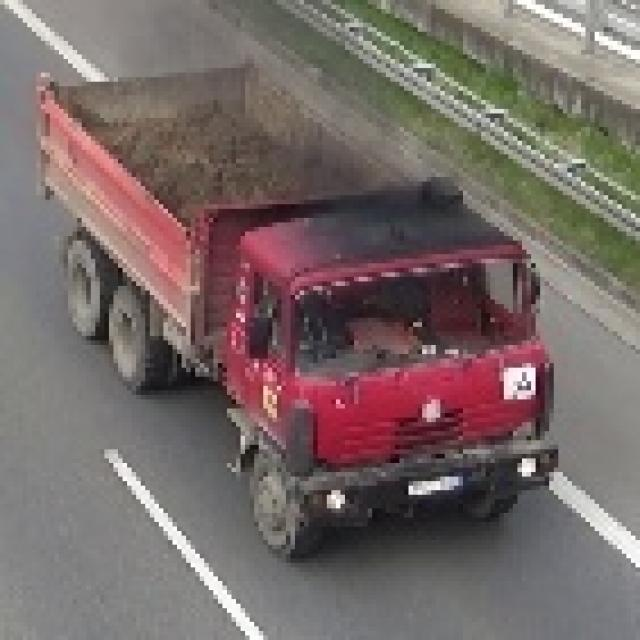truck: (27, 54, 554, 558)
